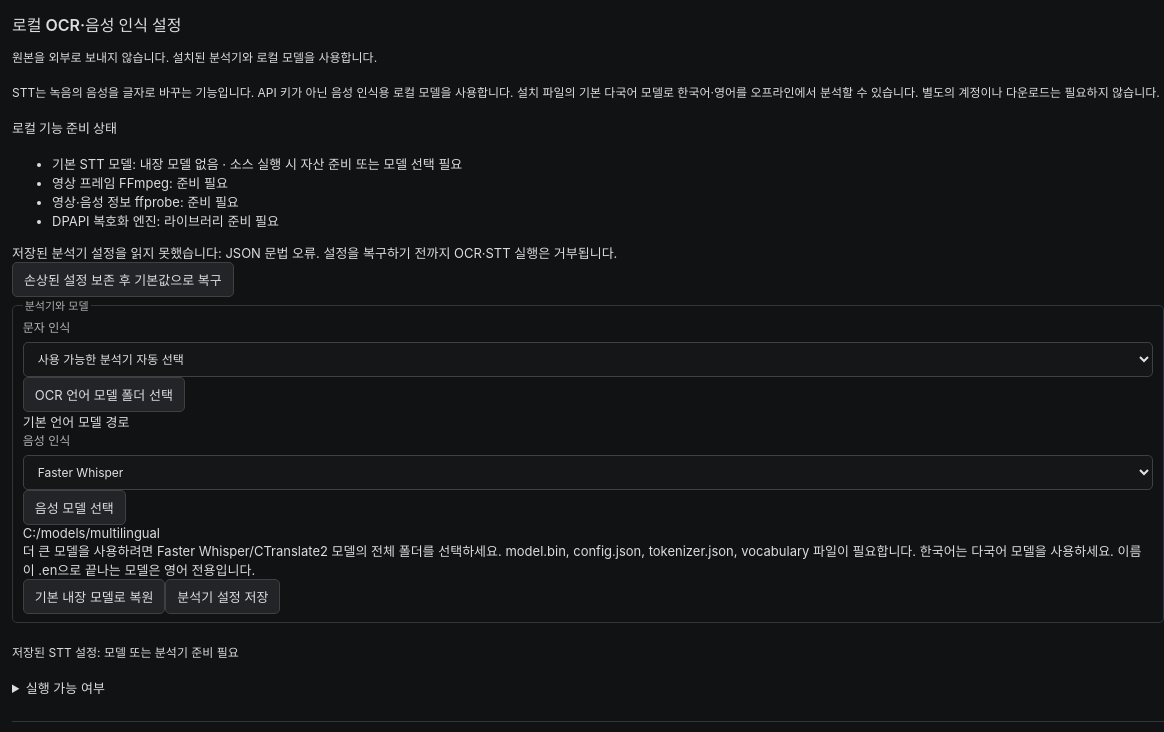
Test: diagnoses unreadable stored settings and resets them without the old file
This screenshot has width=1164, height=732.
Expected: the message that starts with "저장된 분석기 설정을 읽지 못했습니다:" shows "JSON 문법 오류", [225,245,316,261]
Click the button "손상된 설정 보존 후 기본값으로 복구": (123, 280) [12,262,234,297]
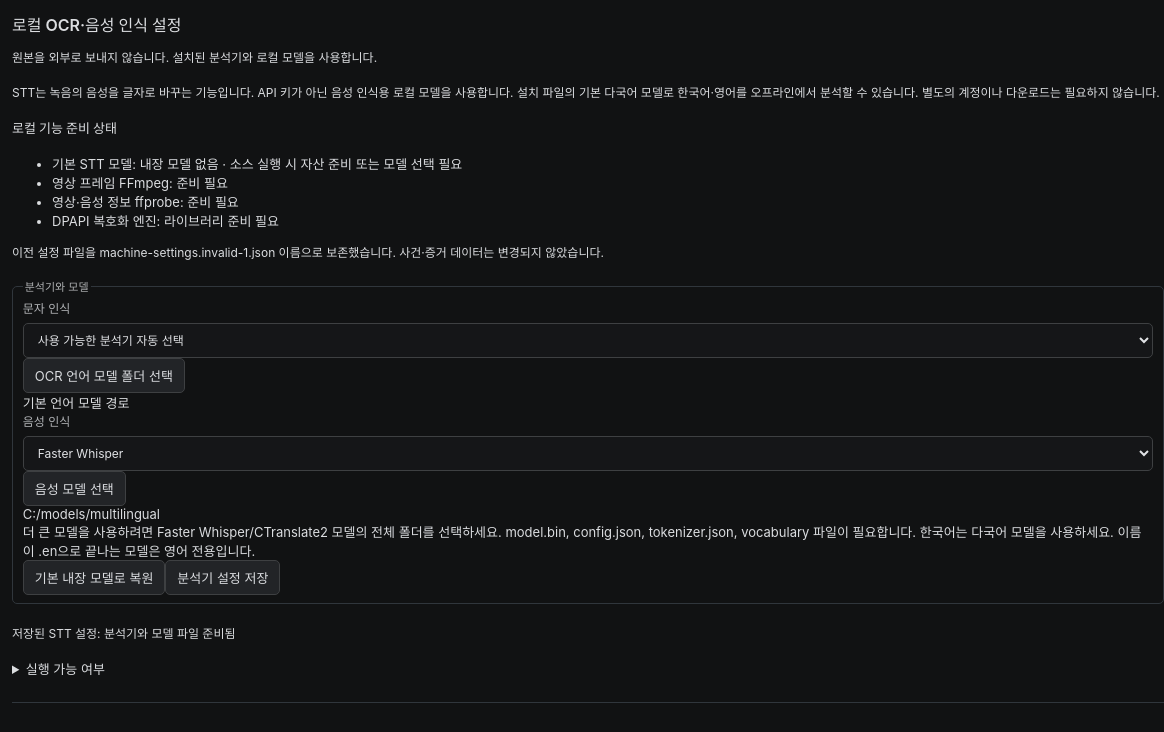
Result: the text "이전 설정 파일을 machine-settings.invalid-1.json 이름으로 보존했습니다. 사건·증거 데이터는 변경되지 않았습니다." is shown at [12,245,604,260]
